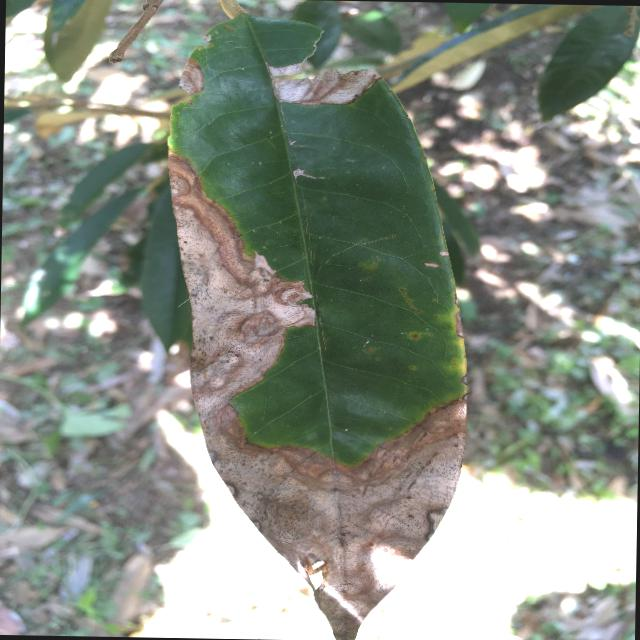Leaf Blight: (151, 2, 485, 639)
